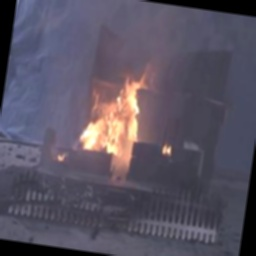fire: (74, 67, 160, 163)
